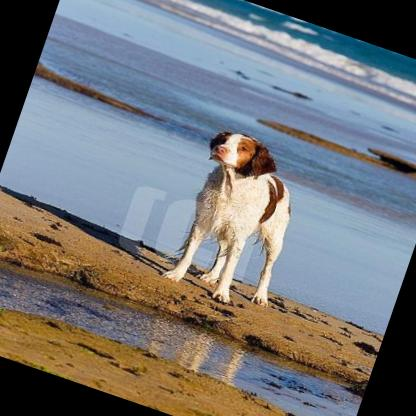Brittany_spaniel: (158, 121, 320, 318)
